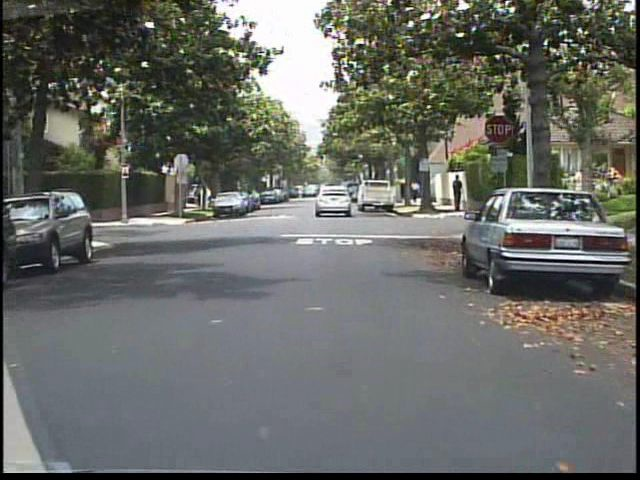person: (449, 173, 470, 215), (412, 178, 422, 205)
